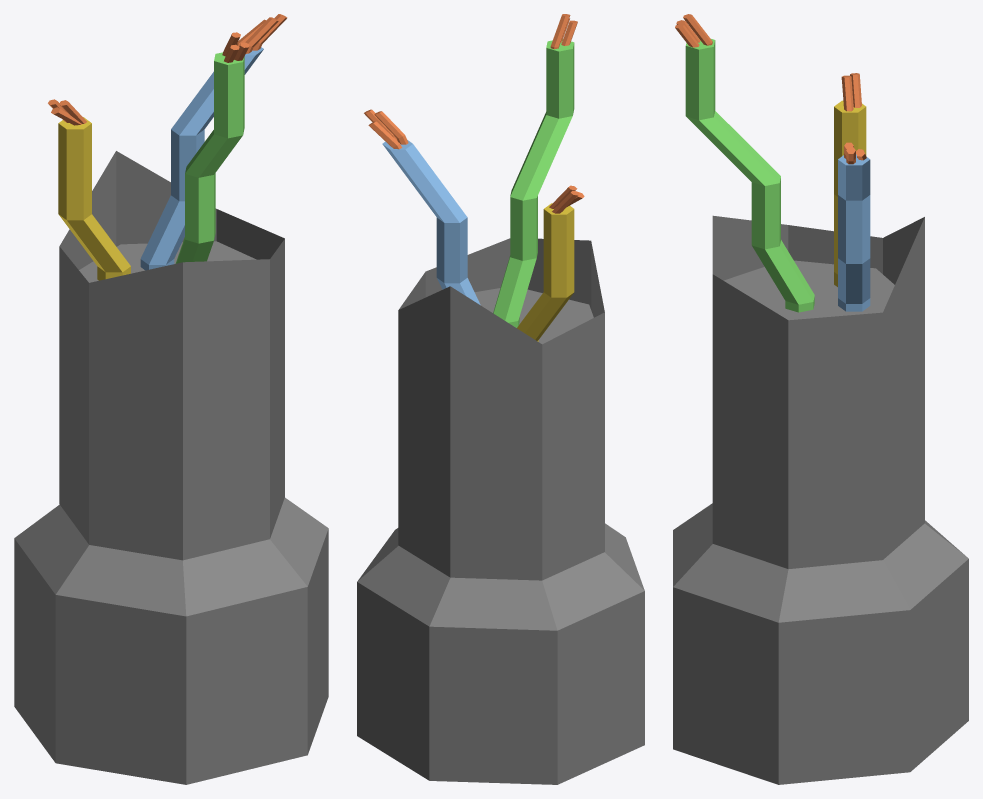
3 views of the same model, side by side, from view 1: azimuth 30°, elevation 25°; view 2: azimuth 150°, elevation 25°; view 3: azimuth 270°, elevation 25° (orthographic). The views are drawn at different scales.
Visible parts, largest first — view 1: Cylinder, Cylinder.010, Cylinder.007, Cylinder.002, Cylinder.001; view 2: Cylinder, Cylinder.010, Cylinder.002, Cylinder.007, Cylinder.001; view 3: Cylinder, Cylinder.010, Cylinder.002, Cylinder.001, Cylinder.007.
Part boxes in pixels (x1,y1,x2,y2): Cylinder: [14, 151, 328, 784]; Cylinder.010: [175, 52, 244, 263]; Cylinder.007: [58, 117, 130, 280]; Cylinder.002: [140, 47, 263, 270]; Cylinder.001: [79, 241, 256, 282]; Cylinder: [357, 238, 644, 784]; Cylinder.010: [493, 39, 574, 327]; Cylinder.002: [382, 140, 480, 305]; Cylinder.007: [517, 203, 574, 341]; Cylinder.001: [475, 288, 593, 344]; Cylinder: [673, 215, 968, 784]; Cylinder.010: [685, 39, 814, 312]; Cylinder.002: [838, 154, 870, 311]; Cylinder.001: [724, 260, 894, 320]; Cylinder.007: [834, 100, 866, 286].
Size of the model in its own units: 47.14 by 121 by 45.96.
